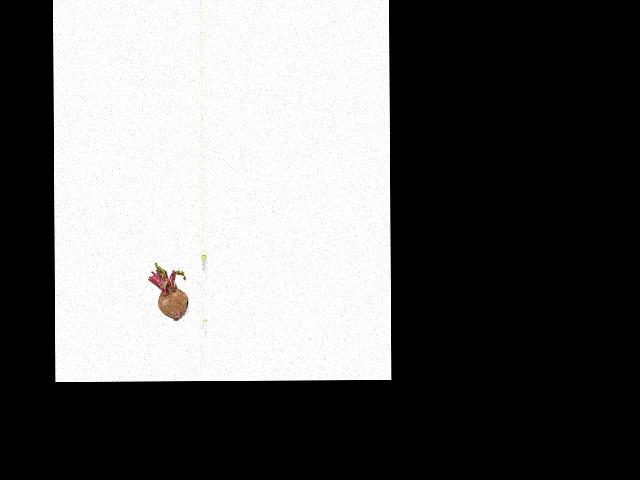beet: (148, 262, 187, 321)
